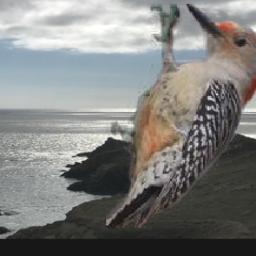Woodpecker: (106, 4, 256, 228)
